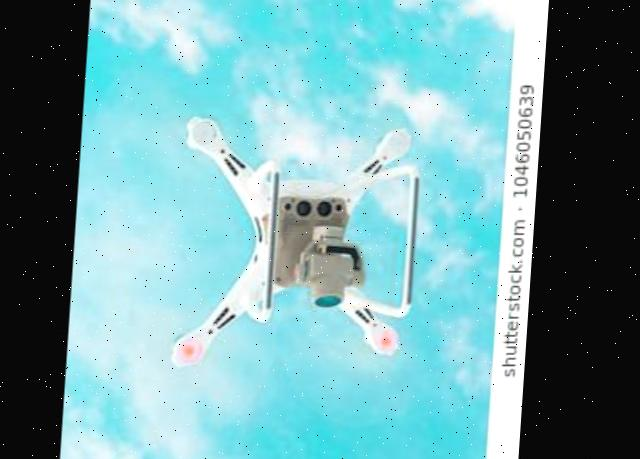drone: (140, 74, 457, 391)
